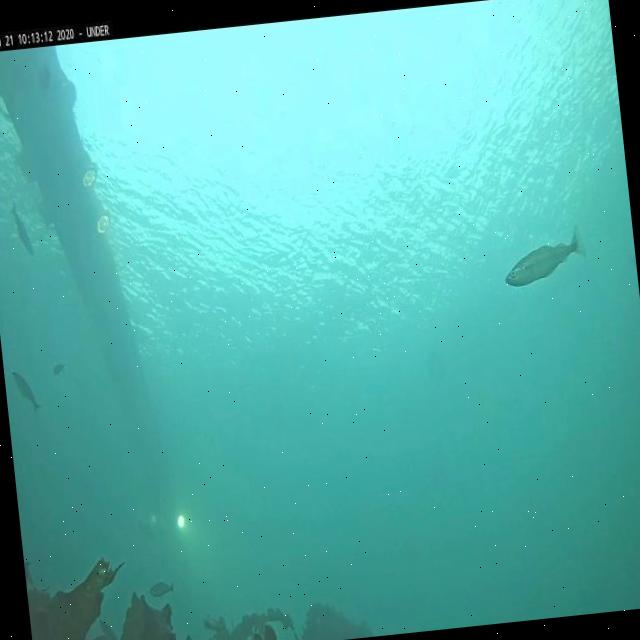fish: (500, 225, 590, 288), (10, 202, 34, 260), (12, 368, 42, 414), (148, 579, 174, 597), (51, 362, 65, 376)
